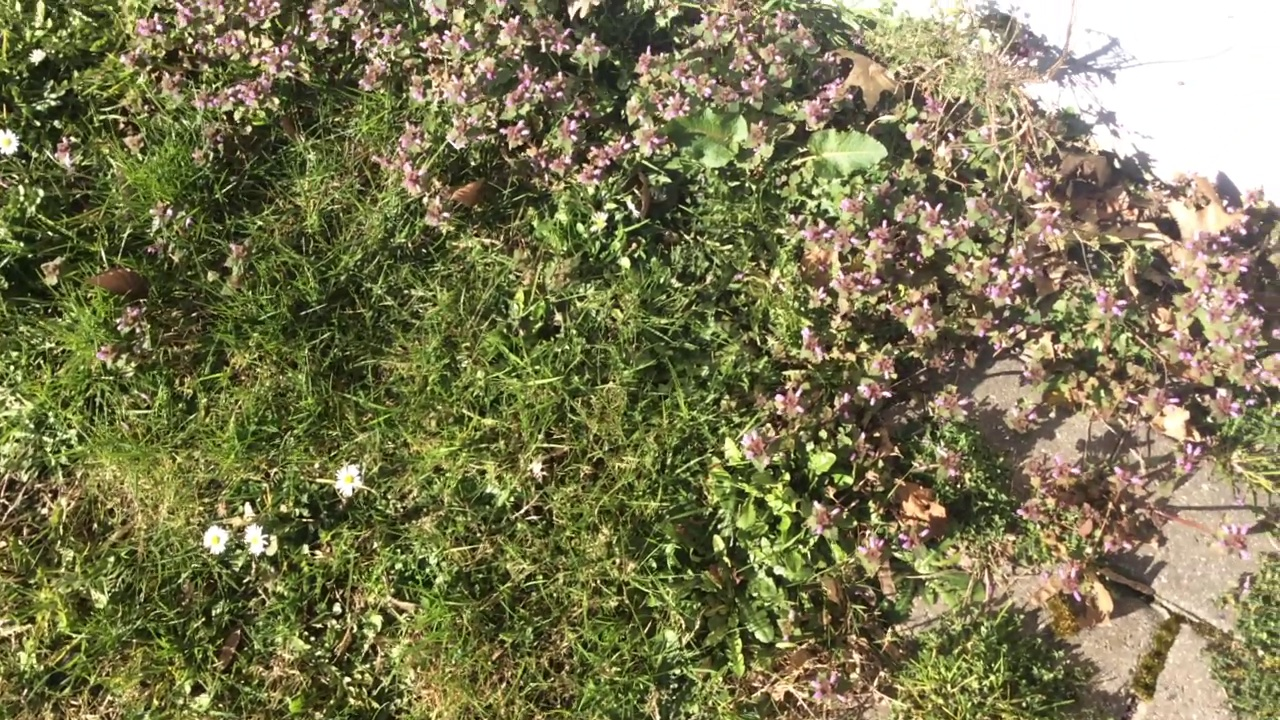rumex: (656, 107, 890, 180)
